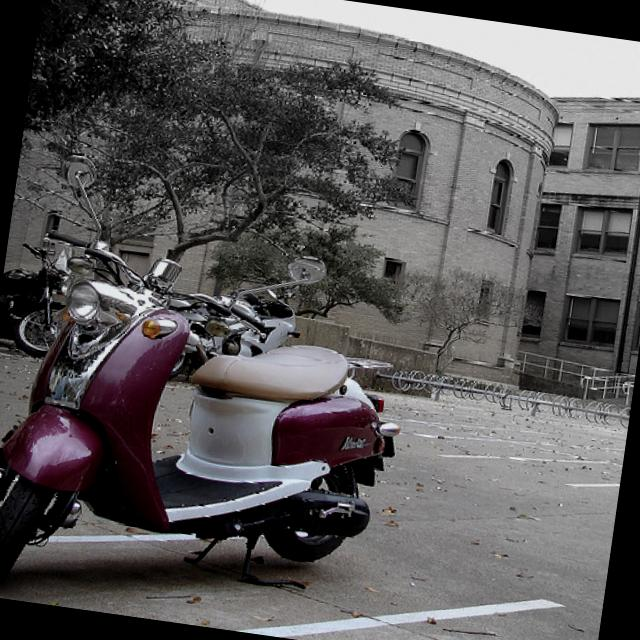Vehicle: (0, 148, 428, 640), (160, 273, 308, 399), (0, 234, 80, 358)
